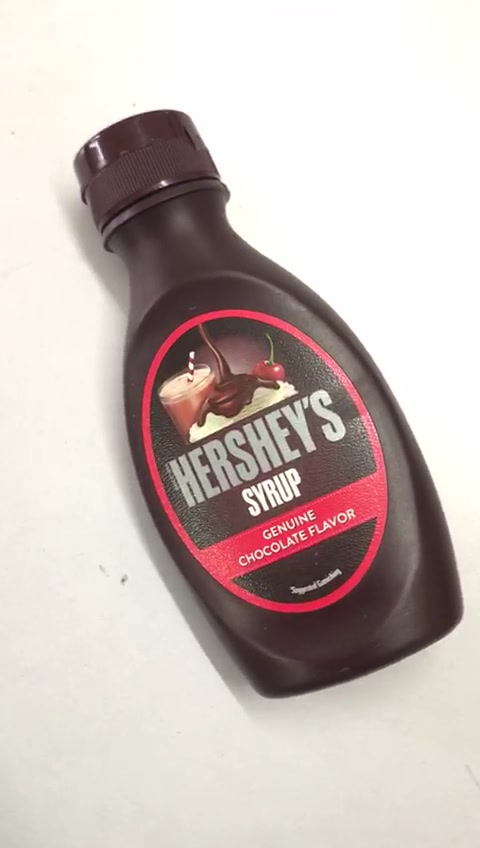hershey: (71, 107, 465, 701)
